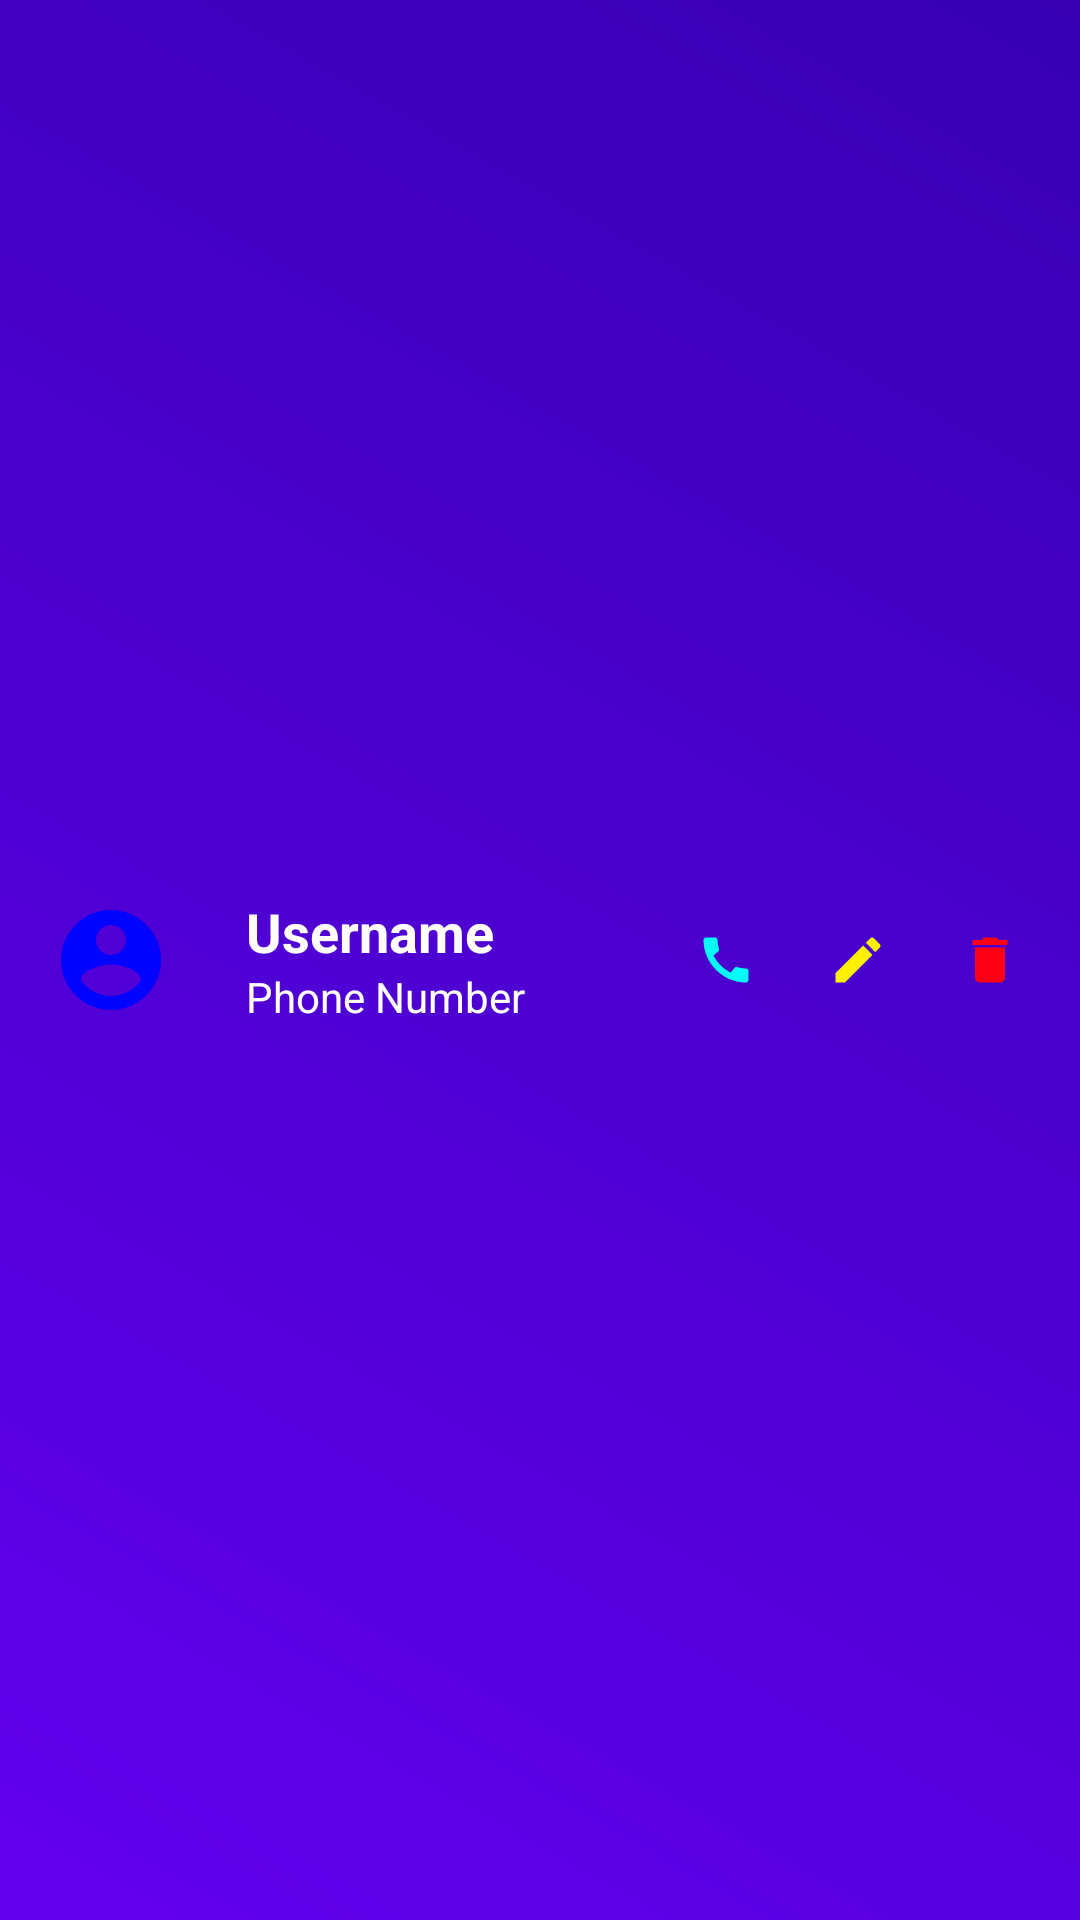

Screen size 1080px x 1920px. Icon name, then its box in pixels as rect(x1, y1, x2, y2):
Call Contact: rect(703, 937, 749, 983)
Delete Contact: rect(972, 937, 1008, 983)
Edit Contact: rect(835, 937, 881, 983)
Profile Picture: rect(61, 910, 161, 1010)
